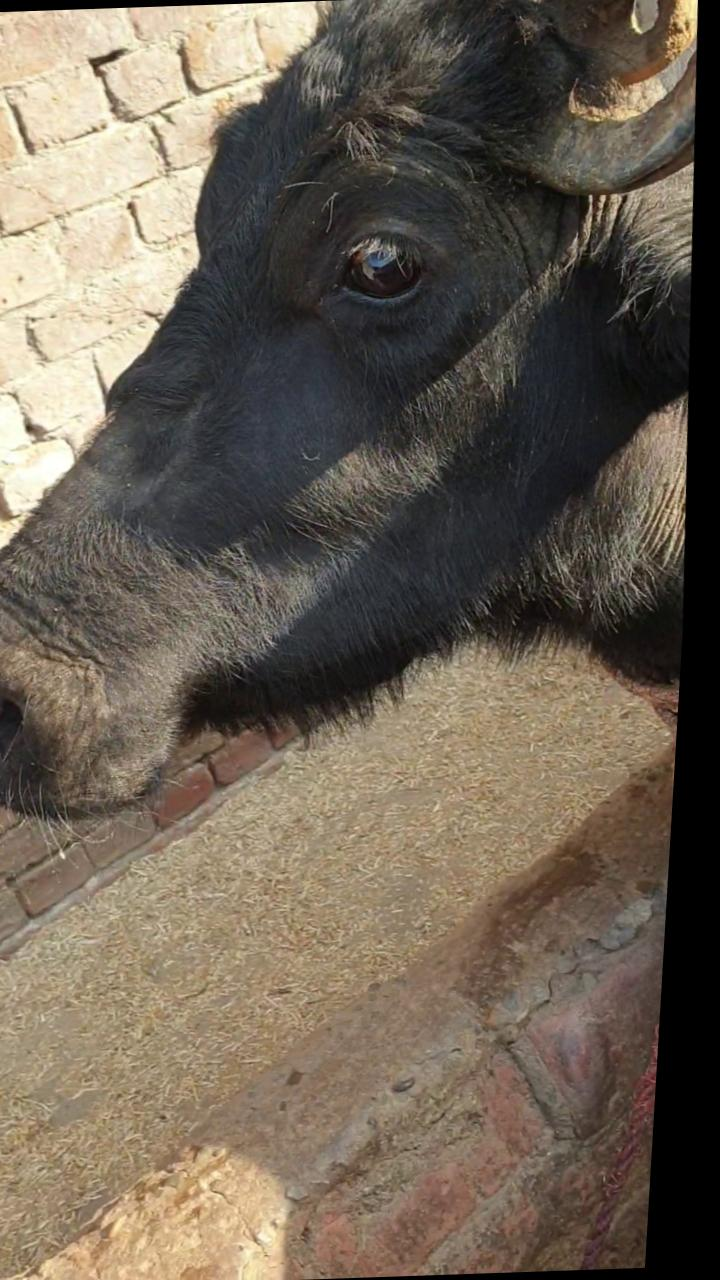cows: (0, 0, 648, 844)
